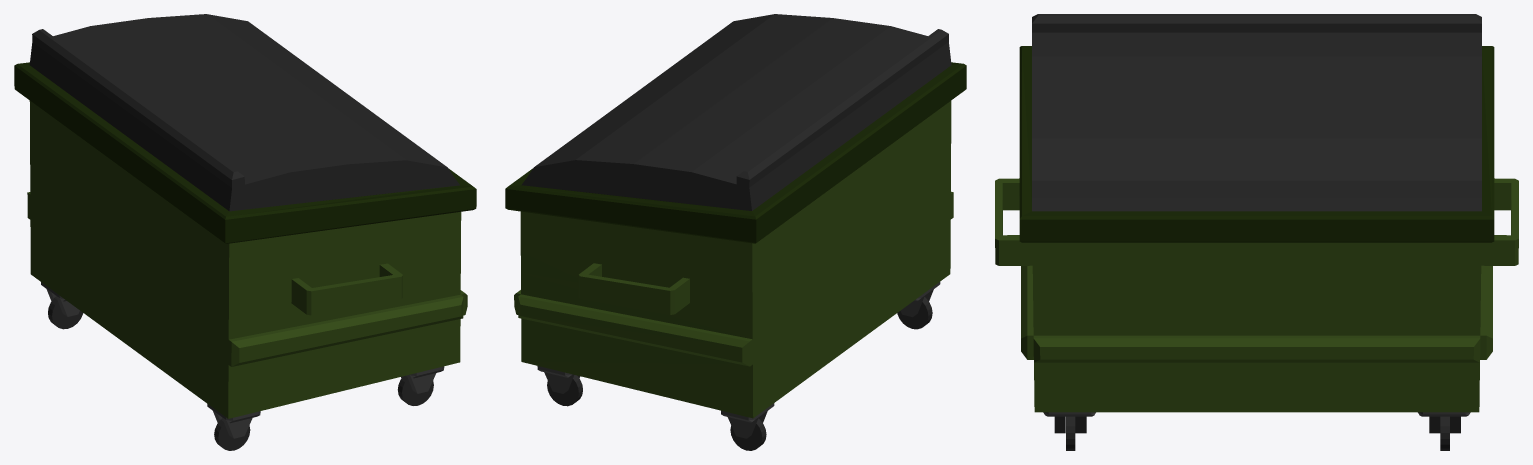
Rendered from BigBin.fbx.
The picture shows the model from 3 angles, left to right: view 1: azimuth 30°, elevation 25°; view 2: azimuth 150°, elevation 25°; view 3: azimuth 270°, elevation 25°; orthographic projection. The views are drawn at different scales.
Visible parts, largest first — view 1: polySurface5; view 2: polySurface5; view 3: polySurface5.
Part boxes in pixels (x1,y1,x2,y2): polySurface5: [14, 14, 476, 450]; polySurface5: [505, 14, 966, 450]; polySurface5: [995, 14, 1518, 450].
Size of the model in its own units: 130 by 144 by 208.
